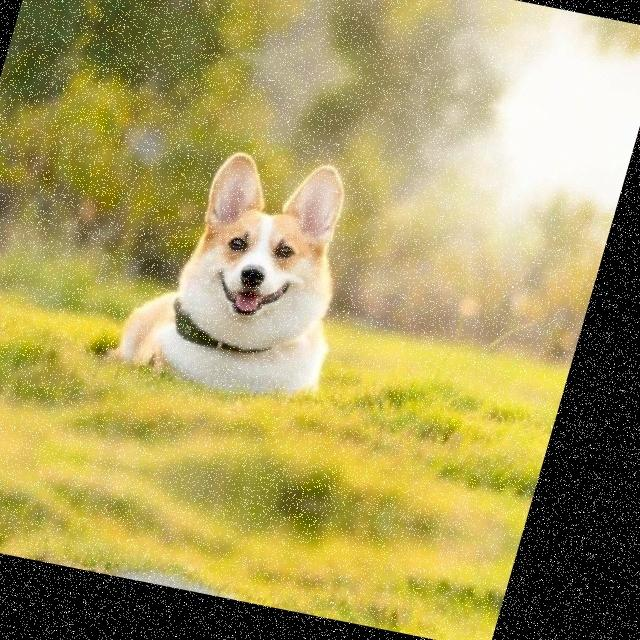dog: (22, 90, 440, 426), (0, 528, 314, 614), (134, 0, 487, 36)
